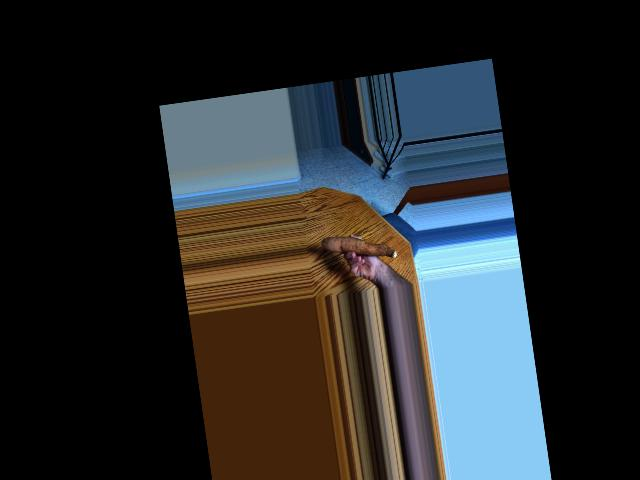sweet_potato: (323, 224, 397, 274)
